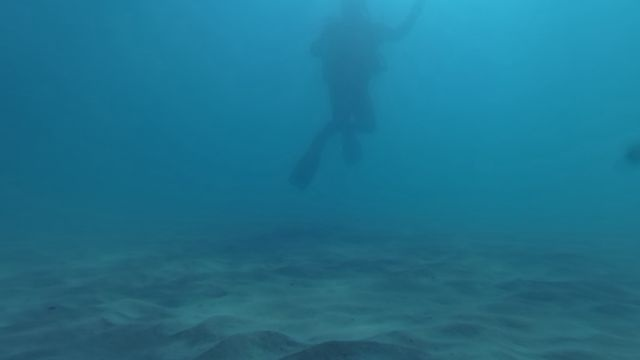Diver: (277, 0, 439, 194)
